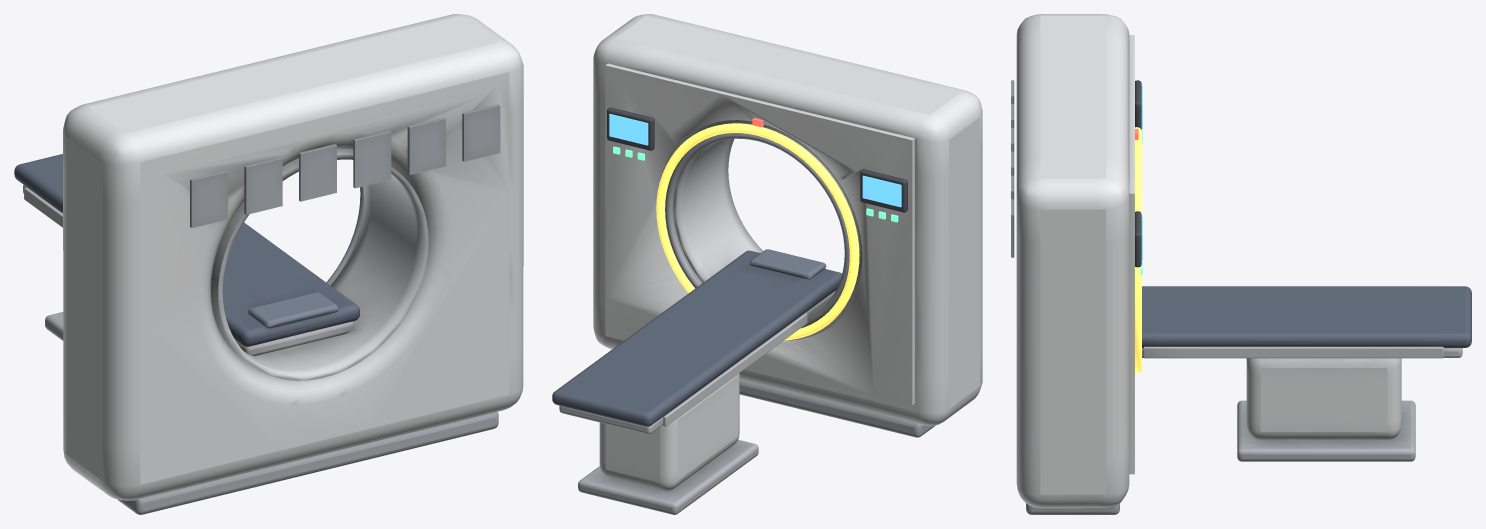
File: ct_scanner.glb
3 renders of one model, left to right at view 1: azimuth 30°, elevation 25°; view 2: azimuth 150°, elevation 25°; view 3: azimuth 270°, elevation 25°, orthographic. The views are drawn at different scales.
Visible parts, largest first — view 1: gantry, bore_tube, table_cushion, gantry_base, vent_4, vent_1, vent_5, vent_3, table_head, vent_0, vent_2, table_carriage (+1 smaller); view 2: gantry, front_panel, table_cushion, table_column, bore_tube, ring, table_foot, bore_lip, gantry_base, side_rail_-1, table_head, table_carriage (+4 smaller); view 3: gantry, table_cushion, table_column, table_foot, side_rail_1, front_panel, ring, gantry_base.
Part boxes in pixels (box(x1,y1,x2,y2)): gantry: box(63, 14, 523, 500); bore_tube: box(211, 148, 428, 380); table_cushion: box(14, 154, 359, 346); gantry_base: box(117, 412, 498, 514); vent_4: box(407, 117, 445, 174); vent_1: box(244, 157, 282, 214); vent_5: box(462, 104, 500, 161); vent_3: box(353, 131, 391, 188); table_head: box(248, 292, 338, 328); vent_0: box(190, 170, 227, 227); vent_2: box(299, 144, 336, 201); table_carriage: box(23, 185, 353, 355); gantry: box(593, 14, 982, 426); front_panel: box(605, 63, 914, 405); table_cushion: box(552, 250, 841, 426); table_column: box(599, 373, 739, 490); bore_tube: box(673, 139, 854, 316); ring: box(656, 123, 859, 340); table_foot: box(578, 440, 758, 514); bore_lip: box(665, 133, 849, 328); gantry_base: box(739, 380, 935, 437); side_rail_-1: box(663, 313, 807, 426); table_head: box(750, 249, 826, 279); table_carriage: box(559, 290, 835, 434); gantry: box(1016, 14, 1129, 508); table_cushion: box(1142, 286, 1471, 347); table_column: box(1246, 358, 1401, 439); table_foot: box(1237, 400, 1415, 461); side_rail_1: box(1143, 346, 1443, 358); front_panel: box(1129, 35, 1134, 474); ring: box(1135, 127, 1141, 373); gantry_base: box(1026, 503, 1119, 514).
Size of the model in its own units: 92 by 80 by 98.2.
